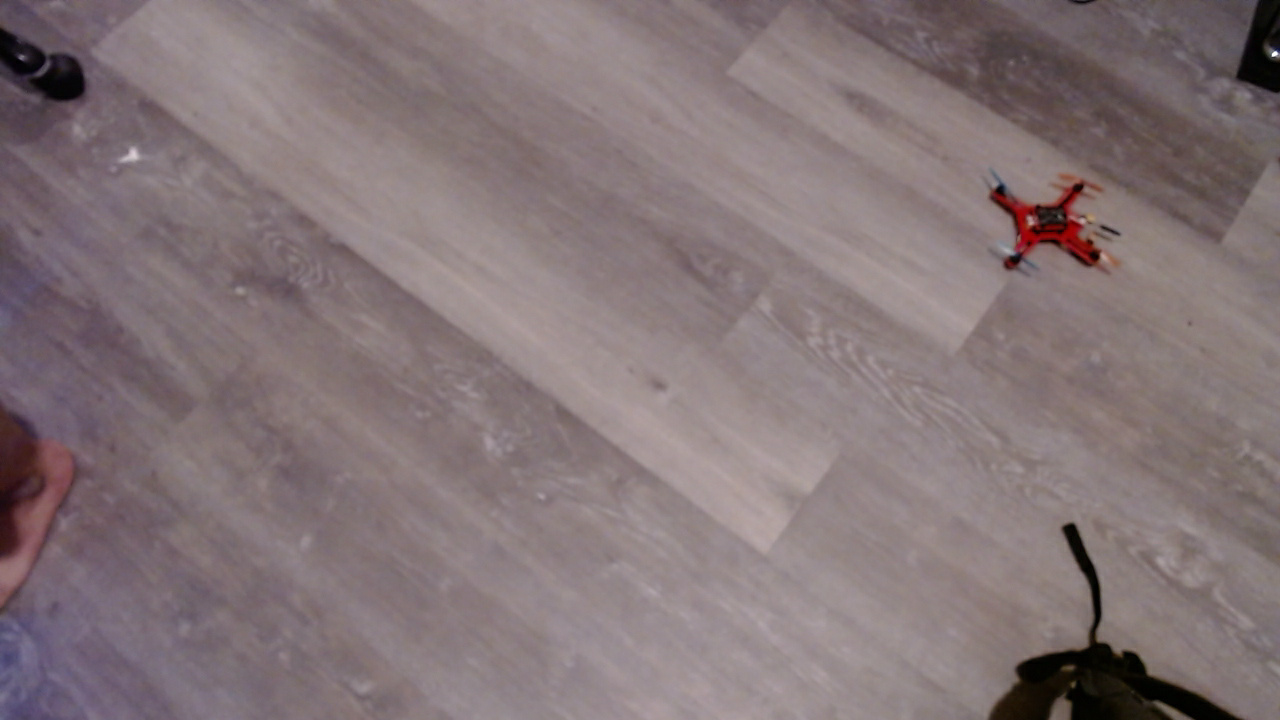crazyflie: (987, 170, 1129, 280)
